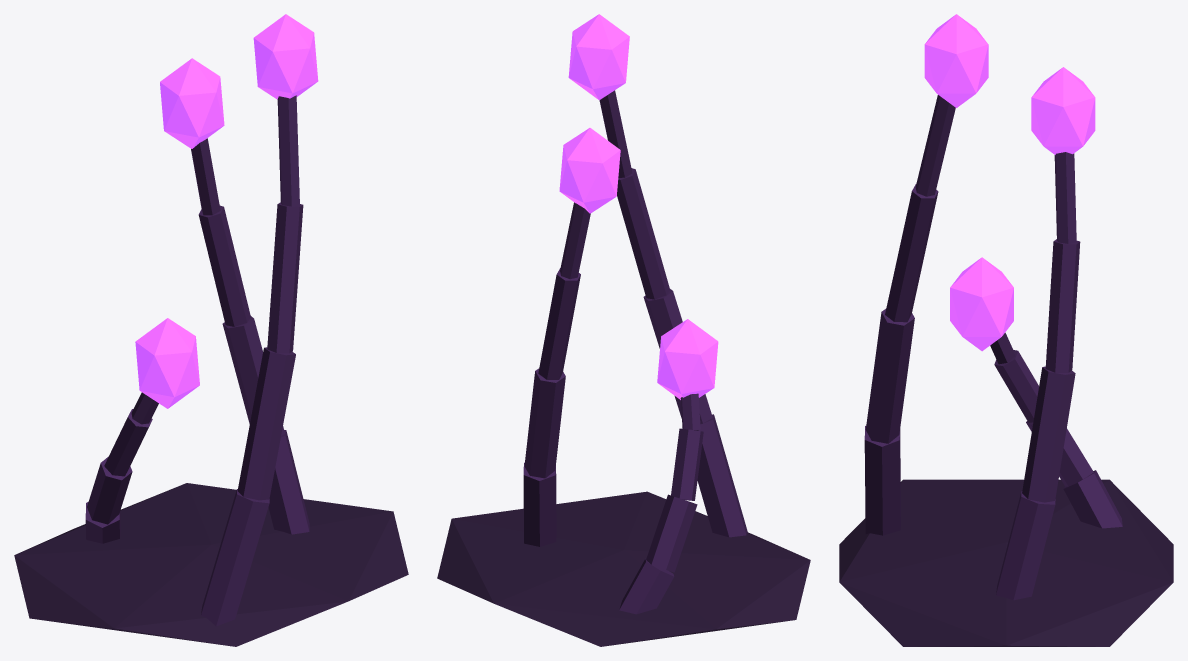
The model's file is mire_tendril_a.glb.
3 views of the same model, side by side, from view 1: azimuth 30°, elevation 25°; view 2: azimuth 150°, elevation 25°; view 3: azimuth 270°, elevation 25° (orthographic). The views are drawn at different scales.
Parts seen in each view (by area): view 1: Mire_Base.006, Tendril_3_2, Tendril_3_1, Bud_2, Bud_1, Bud_3, Tendril_3_3, Tendril_1_3, Tendril_1_1, Tendril_1_2, Tendril_3_4, Tendril_2_2 (+4 smaller); view 2: Mire_Base.006, Bud_3, Bud_1, Bud_2, Tendril_3_1, Tendril_3_3, Tendril_1_2, Tendril_1_3, Tendril_1_1, Tendril_2_2, Tendril_2_3, Tendril_2_1 (+4 smaller); view 3: Mire_Base.006, Tendril_1_2, Bud_3, Bud_2, Bud_1, Tendril_3_2, Tendril_1_1, Tendril_1_3, Tendril_3_3, Tendril_3_1, Tendril_3_4, Tendril_2_1 (+4 smaller).
Boxes of the visible parts, x1,y1,x2,y2 form: Mire_Base.006: (14, 483, 408, 646); Tendril_3_2: (237, 347, 295, 500); Tendril_3_1: (201, 489, 269, 626); Bud_2: (135, 318, 199, 408); Bud_1: (160, 58, 224, 148); Bud_3: (253, 14, 318, 99); Tendril_3_3: (267, 202, 303, 353); Tendril_1_3: (198, 205, 250, 326); Tendril_1_1: (268, 430, 309, 534); Tendril_1_2: (222, 316, 284, 435); Tendril_3_4: (277, 95, 299, 206); Tendril_2_2: (87, 456, 132, 524); Mire_Base.006: (437, 491, 810, 646); Bud_3: (568, 14, 629, 100); Bud_1: (559, 128, 620, 213); Bud_2: (657, 319, 718, 399); Tendril_3_1: (694, 414, 747, 537); Tendril_3_3: (617, 168, 669, 299); Tendril_1_2: (524, 368, 565, 478); Tendril_1_3: (538, 268, 580, 379); Tendril_1_1: (523, 462, 556, 546); Tendril_2_2: (646, 494, 697, 572); Tendril_2_3: (671, 428, 703, 500); Tendril_2_1: (619, 559, 674, 614); Mire_Base.006: (839, 479, 1173, 646); Tendril_1_2: (1022, 366, 1075, 502); Bud_3: (924, 14, 988, 107); Bud_2: (950, 257, 1013, 351); Bud_1: (1031, 67, 1095, 154); Tendril_3_2: (865, 308, 914, 443); Tendril_1_1: (996, 491, 1055, 600); Tendril_1_3: (1045, 239, 1080, 372); Tendril_3_3: (885, 184, 938, 322); Tendril_3_1: (864, 426, 900, 535); Tendril_3_4: (915, 95, 955, 196); Tendril_2_1: (1063, 470, 1122, 528).
Size of the model in its own units: 1.5 by 2.29 by 1.16.
